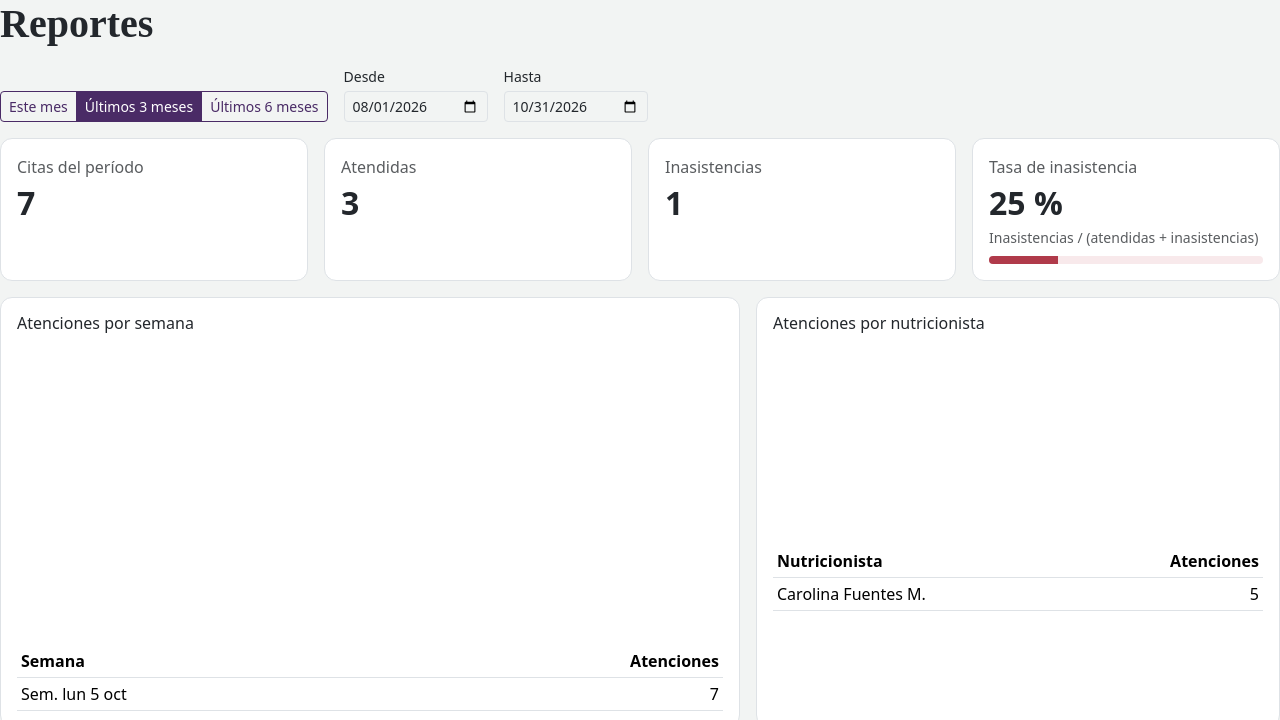
Test: Reportes › no consulta cuando la fecha de inicio es posterior a la de término
Check: the table named "Atenciones por semana" is shown, box [17,645,723,710]
Type "2030-01-01" into the date field labelled "Desde" at x=416, y=106, box [344,91,488,122]
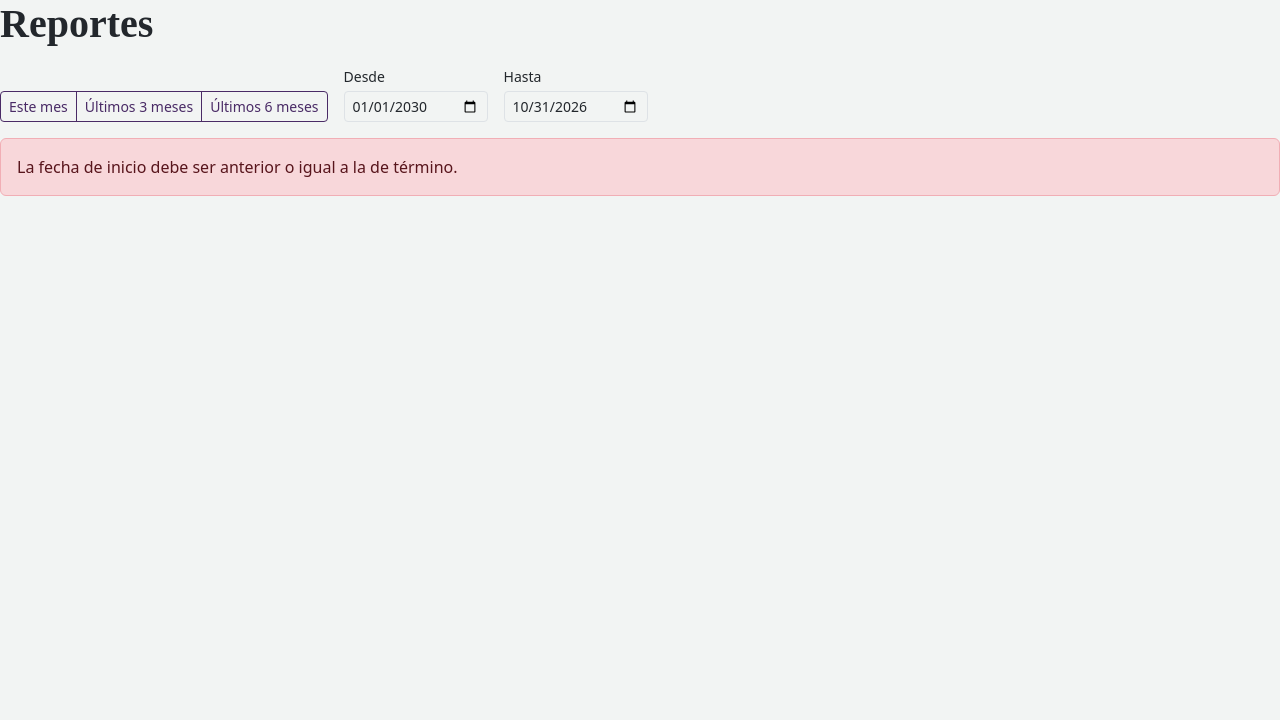
Check: the message reads "La fecha de inicio debe ser anterior o igual a la de término.", box [17,156,458,178]
